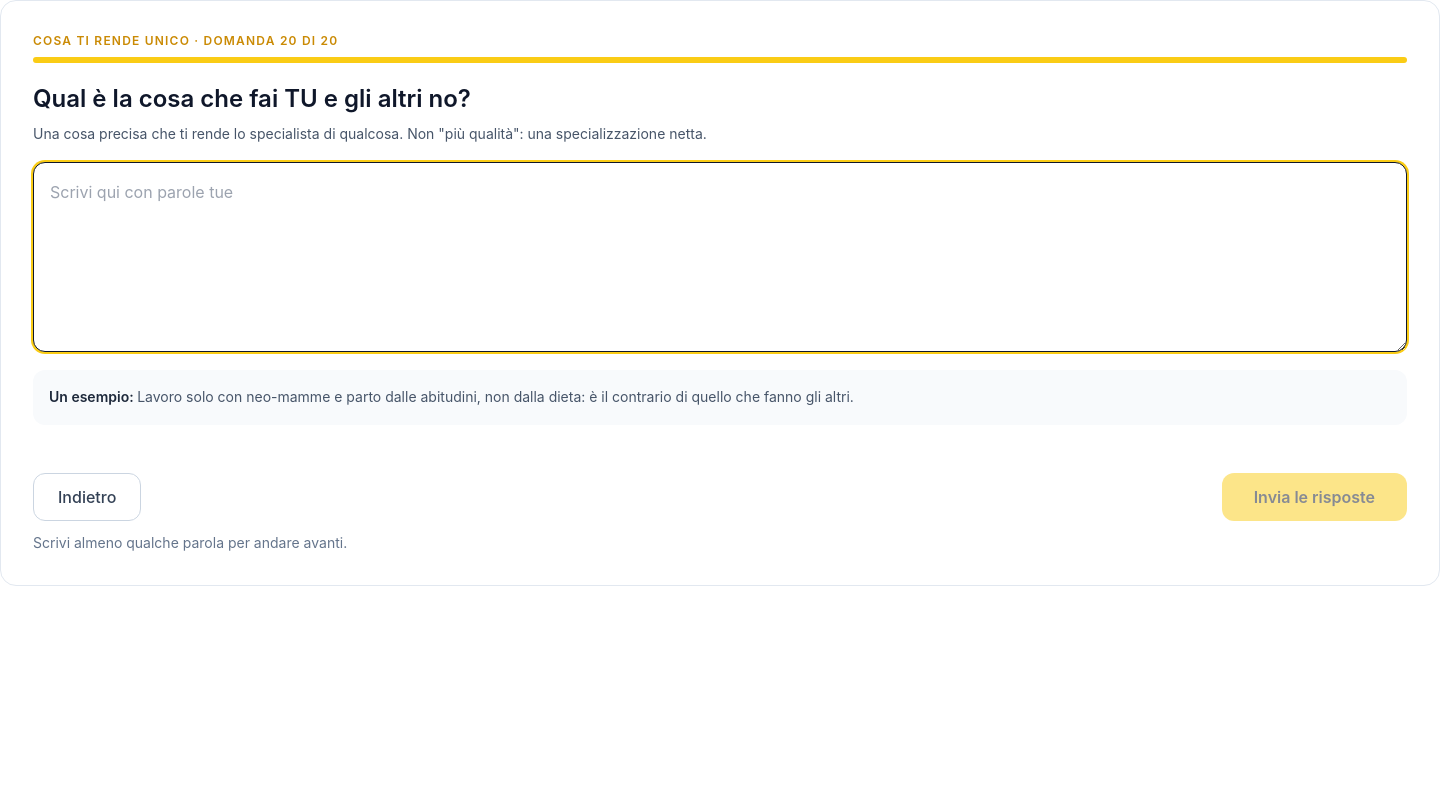
Test case: all'ultima domanda invia tutto e ringrazia con la data della prima tappa
The image size is (1440, 810).
Expected: the heading "Qual è la cosa che fai TU e gli altri no?" is shown, x1=33 y1=84 x2=471 y2=113
Type "Percorso di otto incontri" into the text box at point(720, 257), box x1=33 y1=162 x2=1407 y2=352
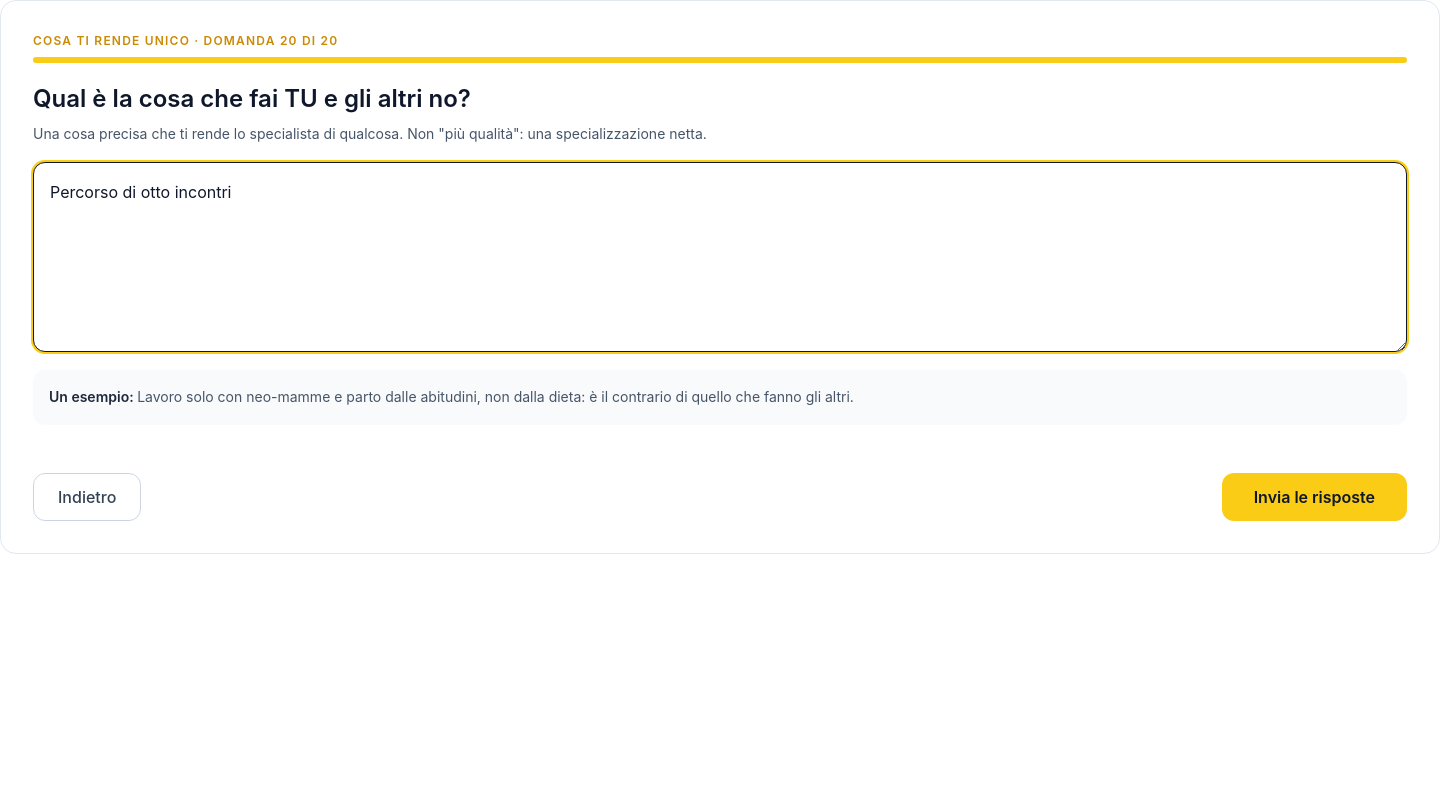
Click the button "Invia le risposte" at point(1314, 496), box x1=1222 y1=472 x2=1407 y2=520
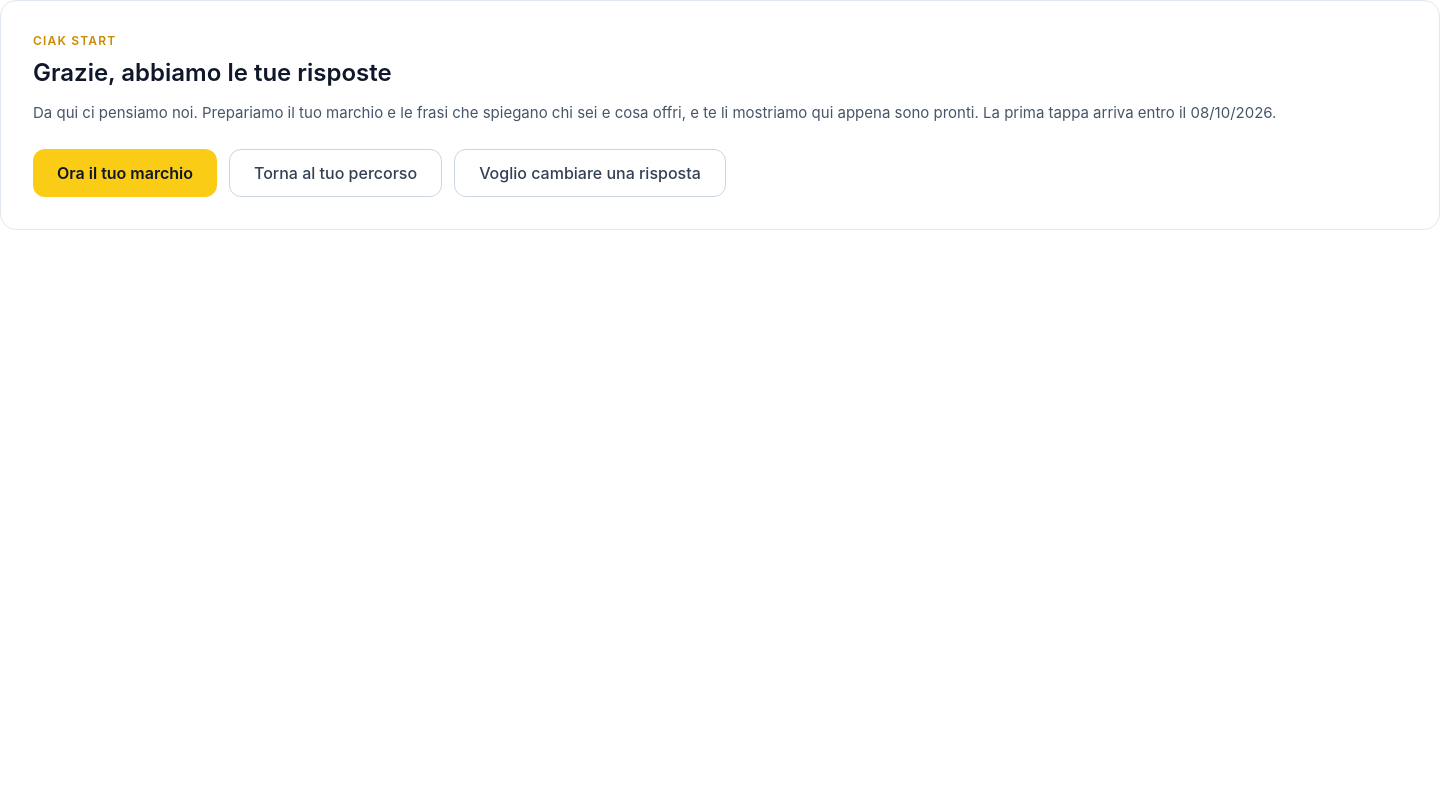
Now the heading "Grazie, abbiamo le tue risposte" is shown, box x1=33 y1=58 x2=392 y2=87
Now the text "entro il 08/10/2026" is shown, box x1=979 y1=103 x2=1276 y2=122
